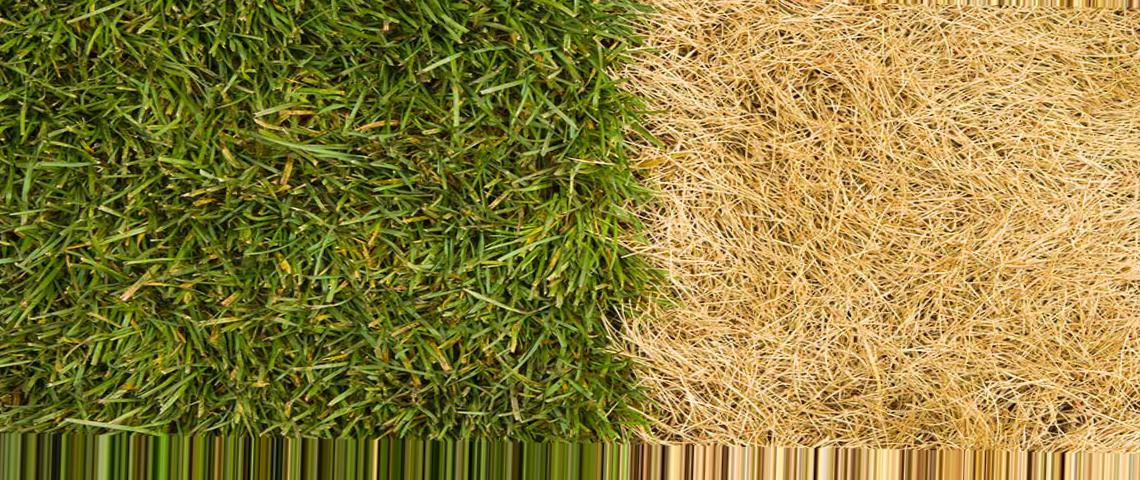patch: (664, 173, 987, 379), (847, 11, 1095, 144), (1000, 181, 1122, 444), (641, 2, 787, 146)
